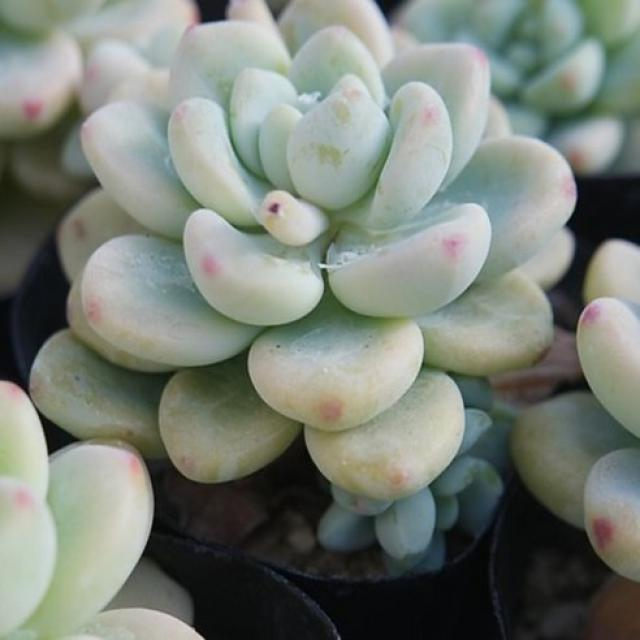LumiRose: (30, 0, 576, 569)
